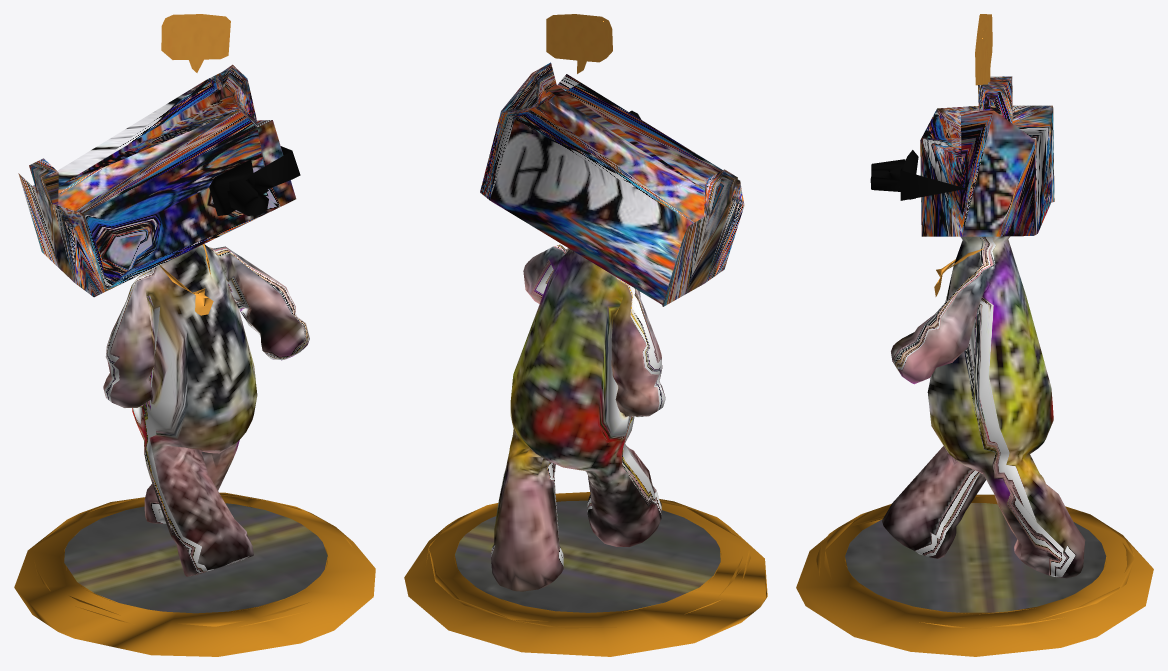
The picture shows the model from 3 angles, left to right: view 1: azimuth 30°, elevation 25°; view 2: azimuth 150°, elevation 25°; view 3: azimuth 270°, elevation 25°; orthographic projection.
Size of the model in its own units: 1.45 by 2.48 by 1.44.
Materials: 6 (4 with a texture image).
